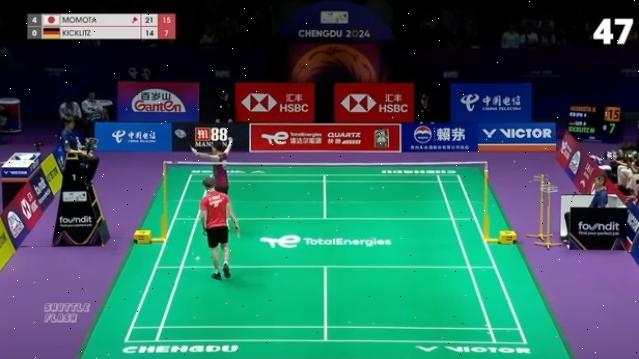Shuttlecock: (194, 254, 202, 262)
